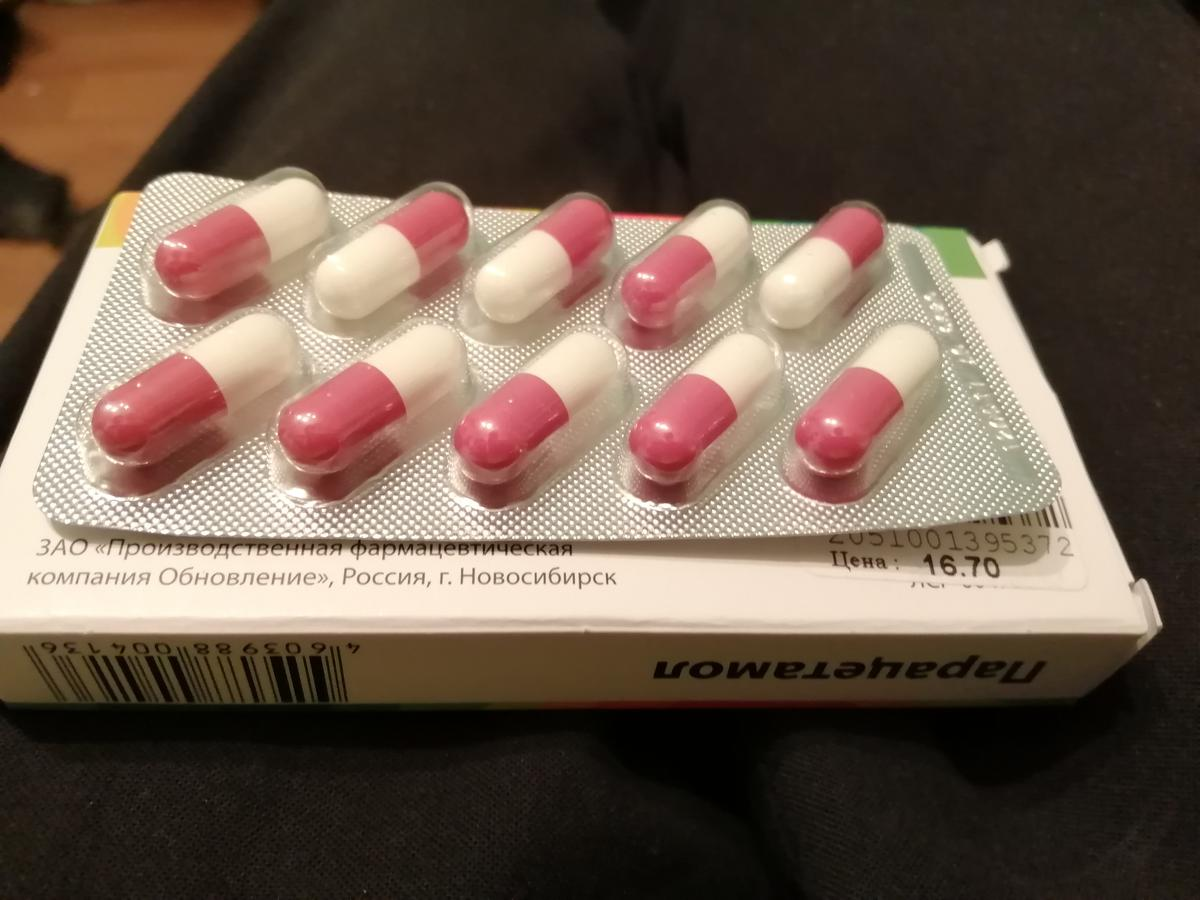capsule: (95, 312, 300, 474), (280, 322, 466, 481), (454, 328, 620, 480), (792, 321, 946, 477), (624, 333, 780, 485), (153, 173, 332, 297), (311, 186, 477, 317), (469, 196, 620, 323), (619, 200, 754, 331), (756, 206, 886, 329)
